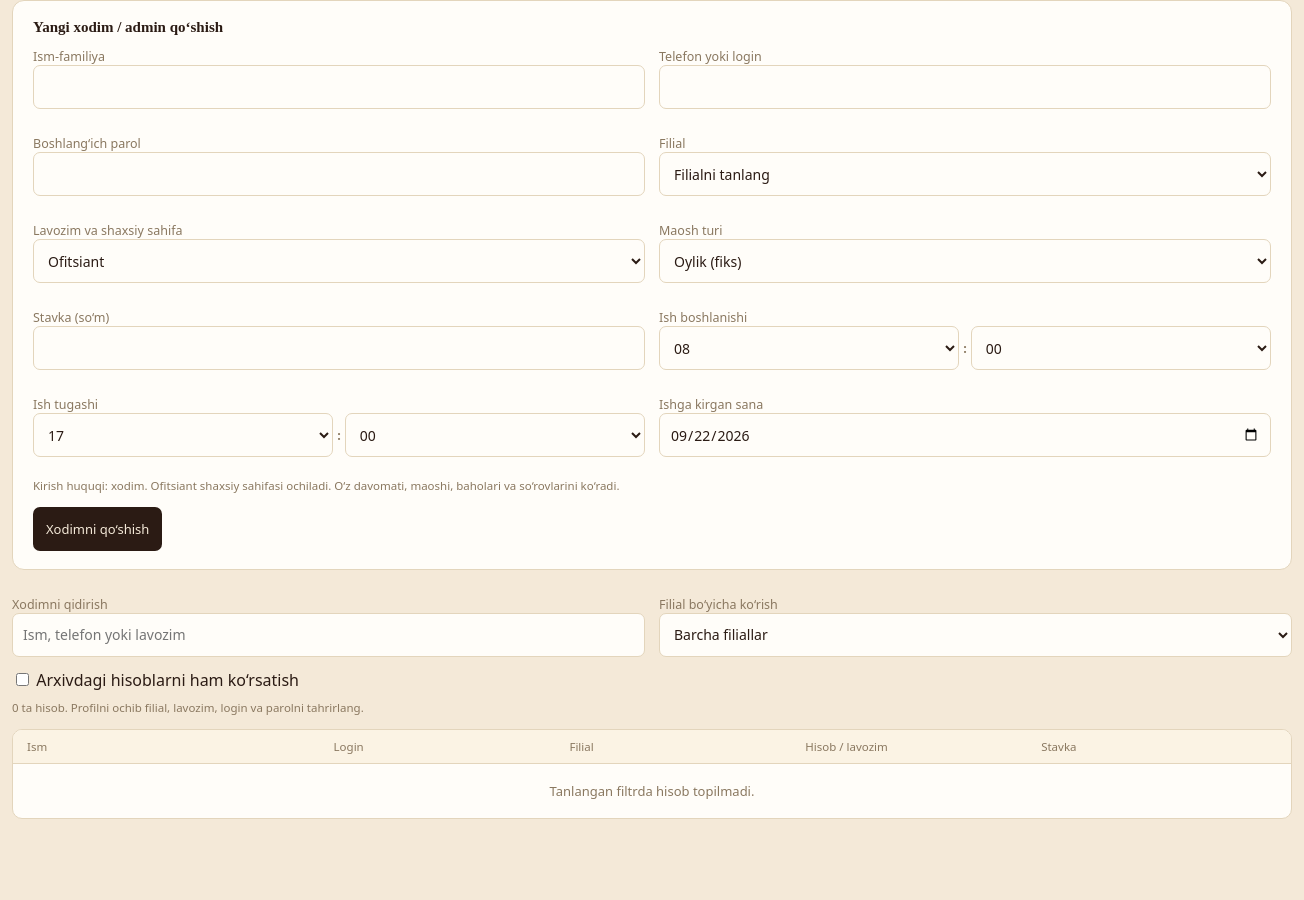
Test: removes archived accounts from the active list and shows them only with the archive filter
Expected: the button "Admin (arxiv)" is not shown
Step 1. Click the checkbox → (22, 679), box left=16, top=673, right=29, bottom=686
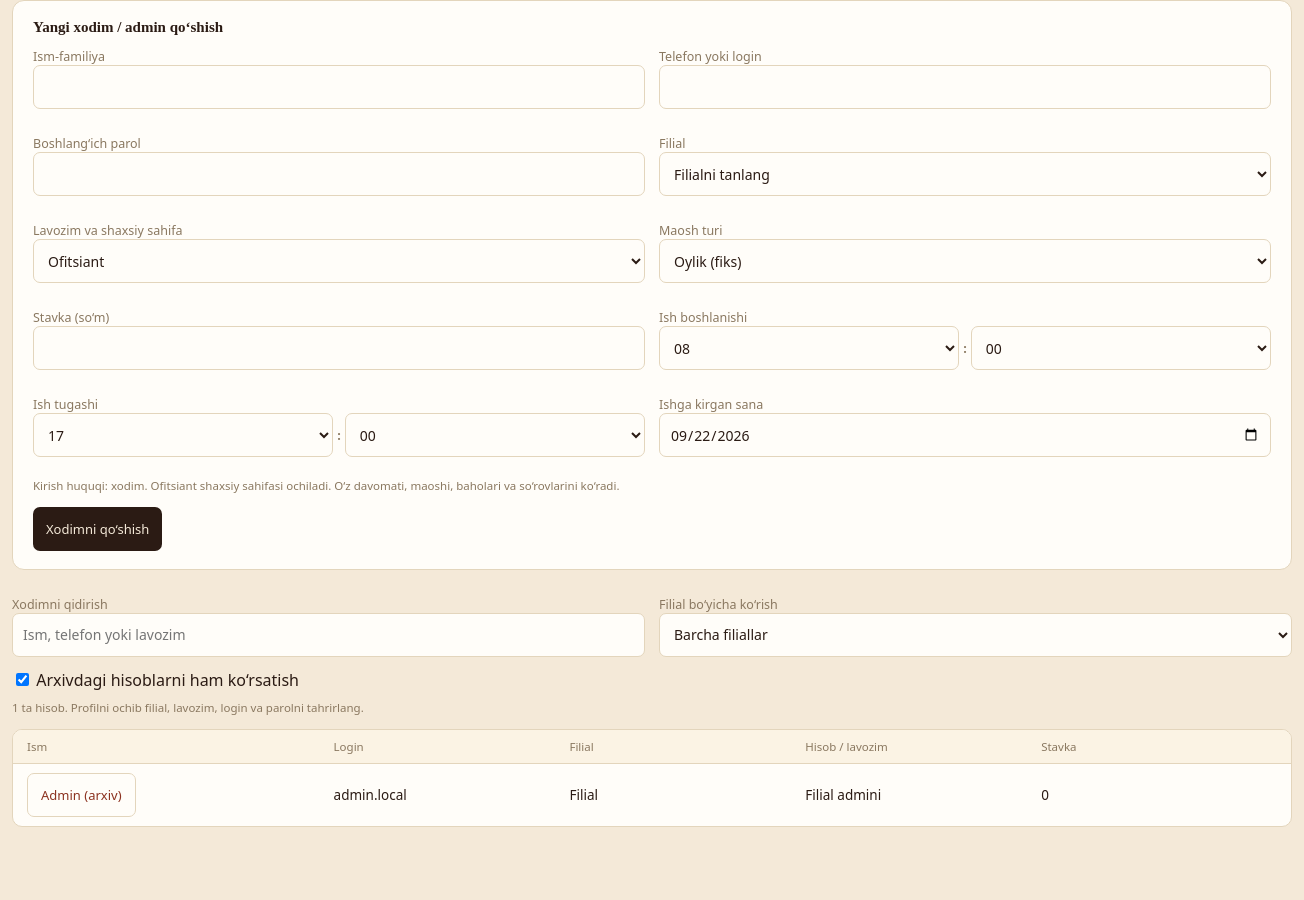
Result: the button "Admin (arxiv)" is shown at left=27, top=773, right=136, bottom=817
